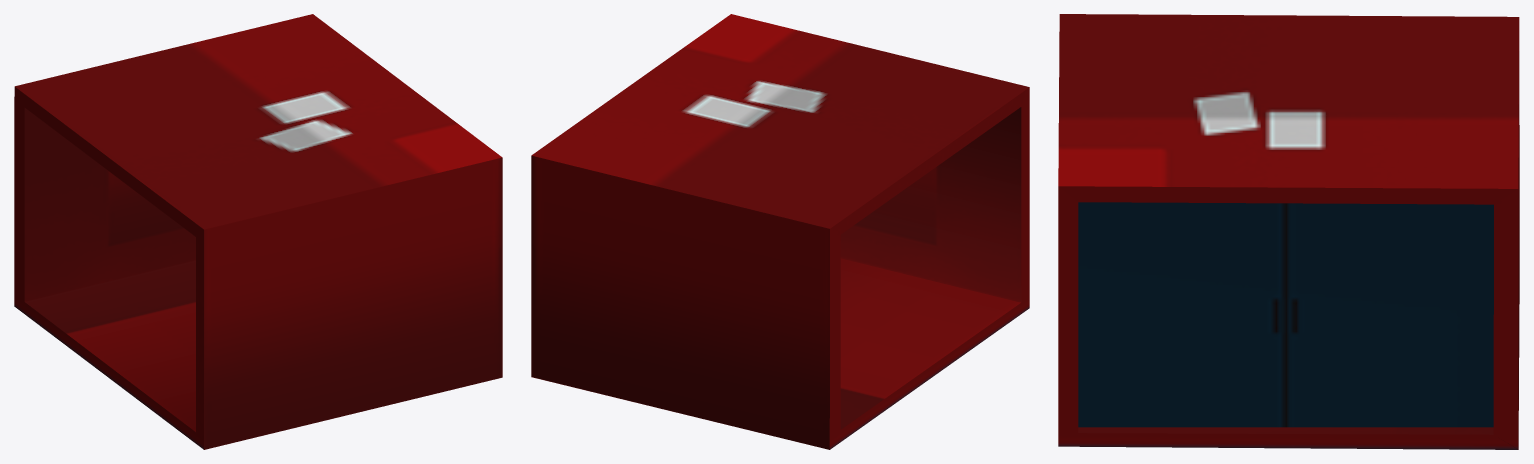
Rendered from Tx_props_cabinet_1.fbx.
The picture shows the model from 3 angles, left to right: view 1: azimuth 30°, elevation 25°; view 2: azimuth 150°, elevation 25°; view 3: azimuth 270°, elevation 25°; orthographic projection. The views are drawn at different scales.
Parts seen in each view (by area): view 1: Tx_cabinet_8; view 2: Tx_cabinet_8; view 3: Tx_cabinet_8.
Boxes of the visible parts, x1=… form: Tx_cabinet_8: x1=14, y1=14, x2=502, y2=449; Tx_cabinet_8: x1=531, y1=14, x2=1029, y2=449; Tx_cabinet_8: x1=1058, y1=14, x2=1519, y2=449.
Size of the model in its own units: 4.72 by 3.29 by 5.27.
